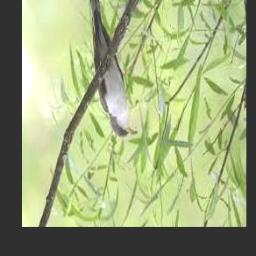Cuckoo: (85, 0, 137, 138)
